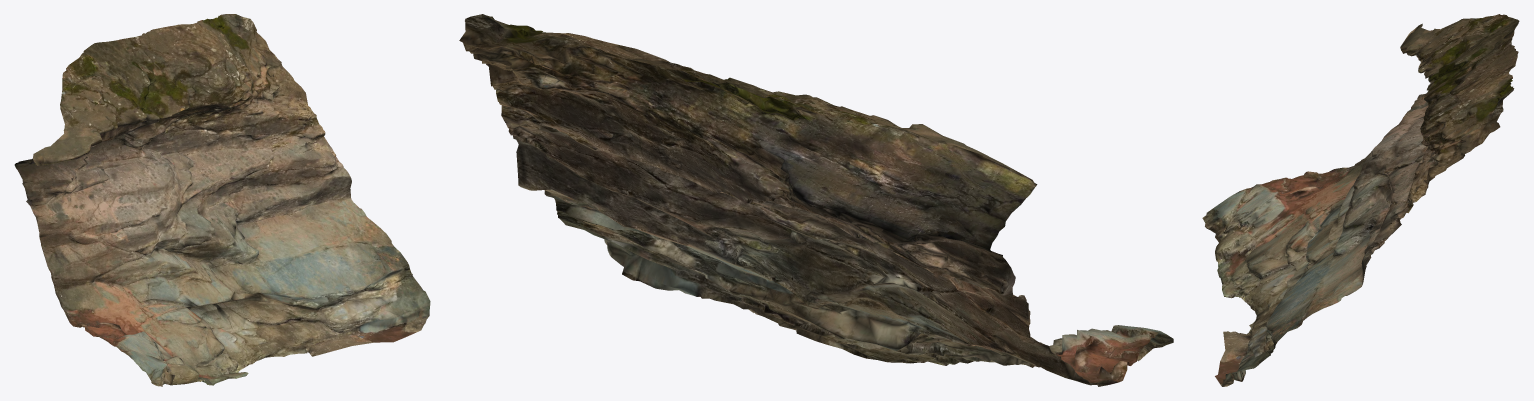
Rendered from rock_face_01.glb.
3 renders of one model, left to right at view 1: azimuth 30°, elevation 25°; view 2: azimuth 150°, elevation 25°; view 3: azimuth 270°, elevation 25°, orthographic. The views are drawn at different scales.
Parts seen in each view (by area): view 1: rock_face_01; view 2: rock_face_01; view 3: rock_face_01.
Boxes of the visible parts, x1,y1,x2,y2 form: rock_face_01: [14, 14, 430, 386]; rock_face_01: [459, 14, 1173, 386]; rock_face_01: [1202, 14, 1519, 386].
Size of the model in its own units: 4.95 by 3.56 by 3.83.
1 material, 1 textured.
